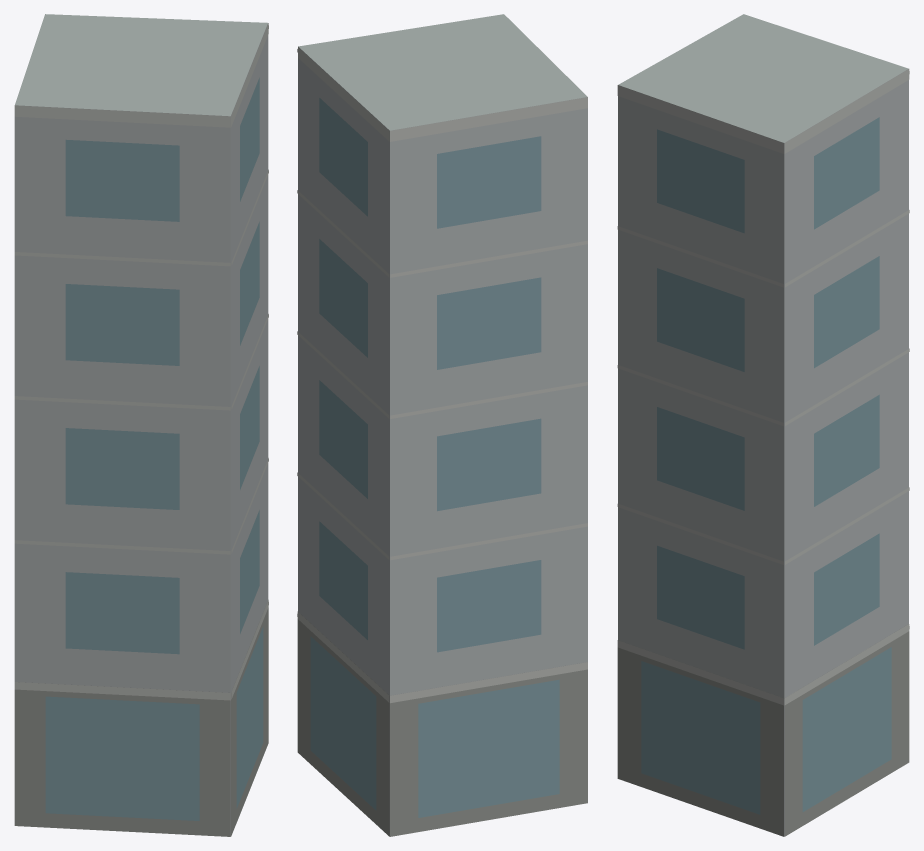
File: survey-upis-33006602.glb
3 views of the same model, side by side, from view 1: azimuth 30°, elevation 25°; view 2: azimuth 150°, elevation 25°; view 3: azimuth 270°, elevation 25° (orthographic). The views are drawn at different scales.
Parts seen in each view (by area): view 1: survey-upis-33006602.tmp; view 2: survey-upis-33006602.tmp; view 3: survey-upis-33006602.tmp.
Boxes of the visible parts, box(x1,y1,x2,y2) form: survey-upis-33006602.tmp: box(14, 14, 268, 836); survey-upis-33006602.tmp: box(297, 14, 587, 836); survey-upis-33006602.tmp: box(617, 14, 909, 836).
Bounding box in the file's own units: 6.1 × 15.25 × 5.82.
